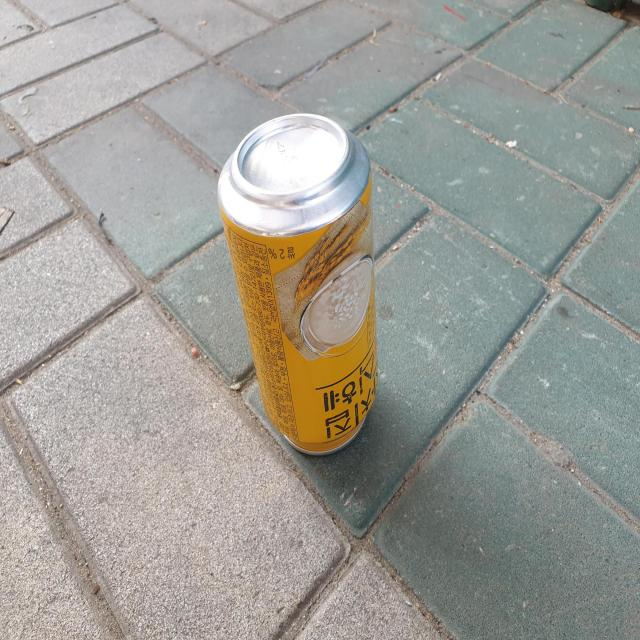can: (218, 112, 378, 455)
